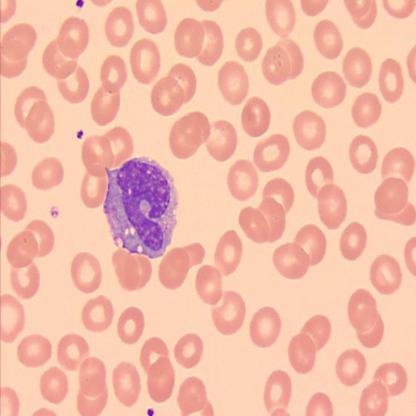Monocyte: (101, 154, 180, 260)
